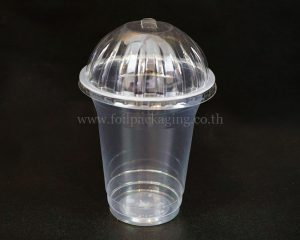plastic_glass: (58, 6, 261, 238)
